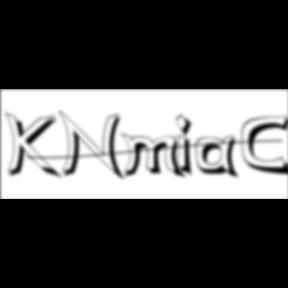K: (4, 110, 64, 182)
N: (59, 109, 129, 183)
a: (196, 135, 244, 182)
i: (176, 112, 200, 180)
m: (121, 132, 189, 181)
